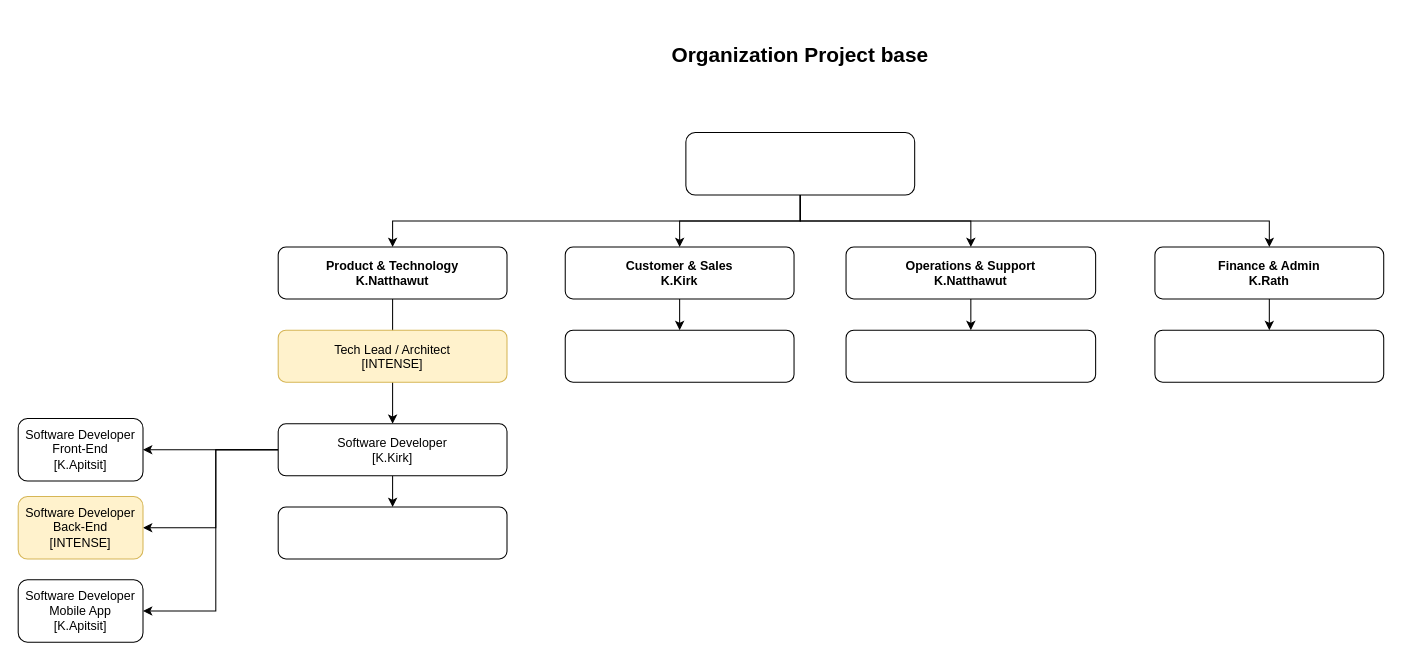
Some shapes in this 1402 by 660 pixel diagram are drawn without their labels. The shapes that lost their labels are listed below. From the top down, each one's centre as x and y in pixels, then its label:
At point 800,163: "CEO [K.Kirk]".
At point 679,355: "PM/Business Analyst [K.Orasa]".
At point 970,355: "Customer Support [K.Apitsit]".
At point 1269,355: "Accounting / HR (Part-time) [K.Sittha+K.Rattanu+K.Orathai]".
At point 392,532: "QA / Tester (Shared) [K.Orasa]".
